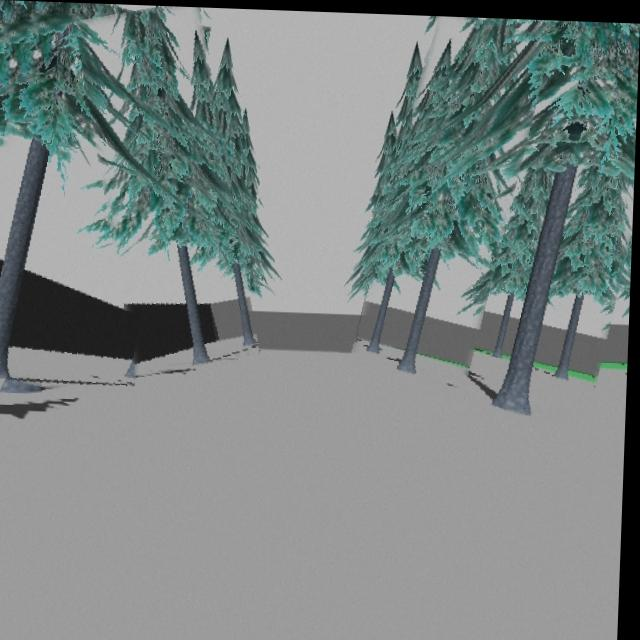tree: (474, 16, 640, 412), (0, 1, 173, 379), (388, 14, 540, 371), (115, 5, 234, 363)
